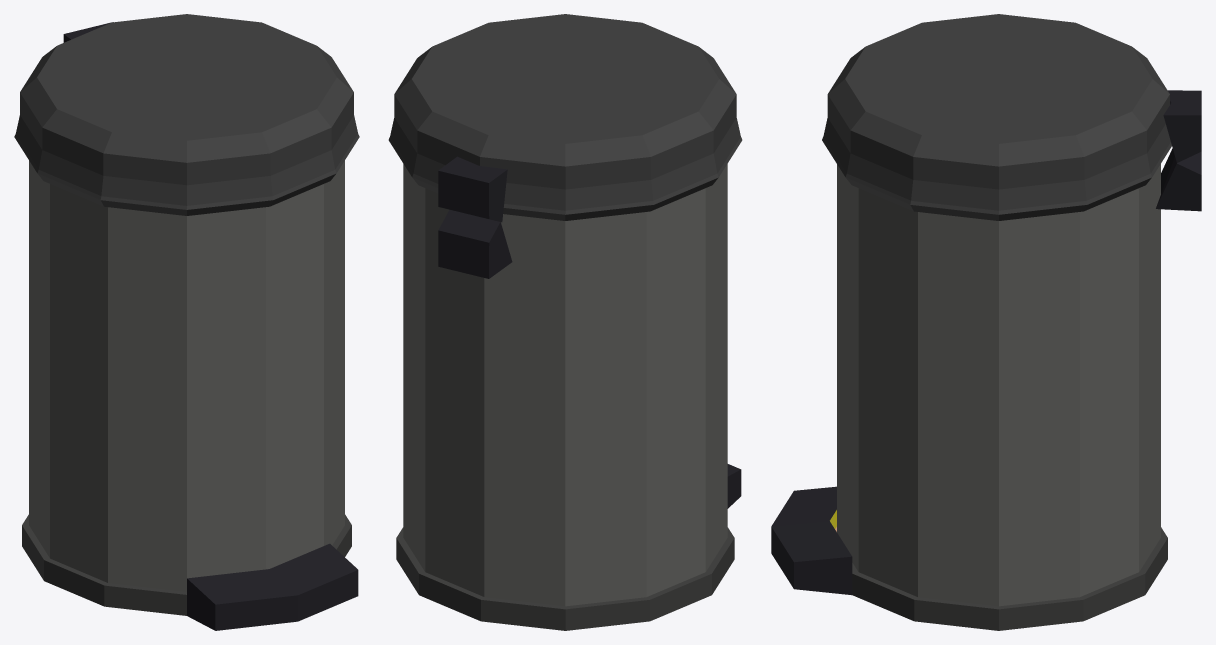
File: cöpkovasi.fbx
3 views of the same model, side by side, from view 1: azimuth 30°, elevation 25°; view 2: azimuth 150°, elevation 25°; view 3: azimuth 270°, elevation 25° (orthographic). The views are drawn at different scales.
Parts seen in each view (by area): view 1: çöpkovasi; view 2: çöpkovasi; view 3: çöpkovasi.
Part boxes in pixels (left/top/right/bottom): çöpkovasi: left=14, top=14, right=359, bottom=630; çöpkovasi: left=388, top=14, right=742, bottom=630; çöpkovasi: left=771, top=14, right=1201, bottom=630.
Bounding box in the file's own units: 177 × 266 × 216.
1 material, 1 textured.
